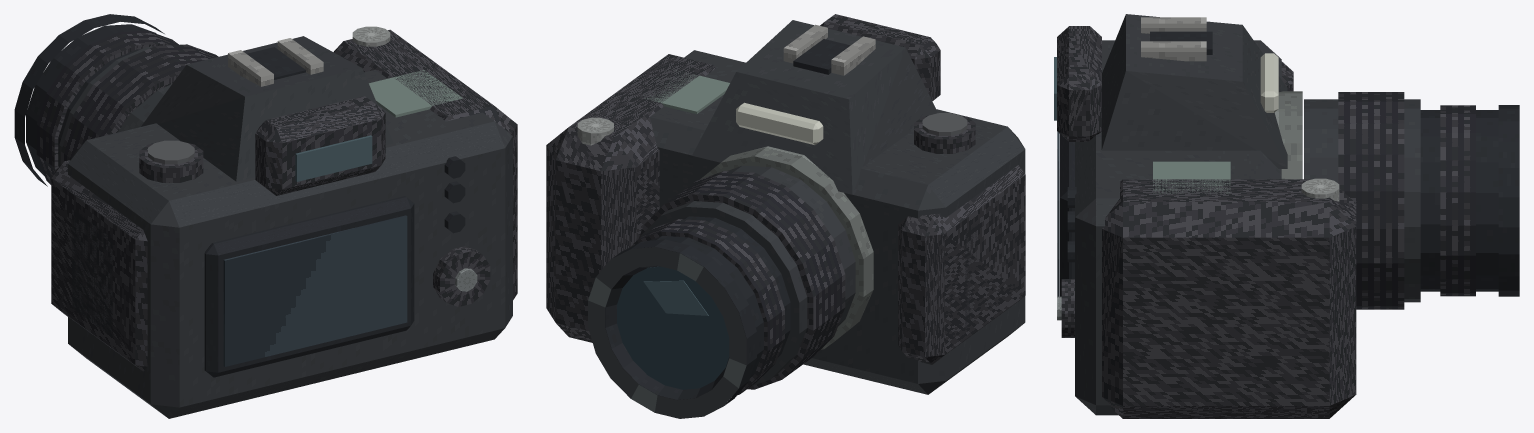
Rendered from camera_pro.glb.
3 renders of one model, left to right at view 1: azimuth 30°, elevation 25°; view 2: azimuth 150°, elevation 25°; view 3: azimuth 270°, elevation 25°, orthographic. The views are drawn at different scales.
Visible parts, largest first — view 1: closed_body; view 2: closed_body (×2); view 3: closed_body.
Boxes of the visible parts, bbox=[...] form: closed_body: bbox=[14, 14, 517, 418]; closed_body (×2): bbox=[546, 14, 1025, 418]; closed_body: bbox=[1054, 14, 1519, 418].
Size of the model in its own units: 0.149 by 0.109 by 0.1556.
Materials: 2 (2 with a texture image).
